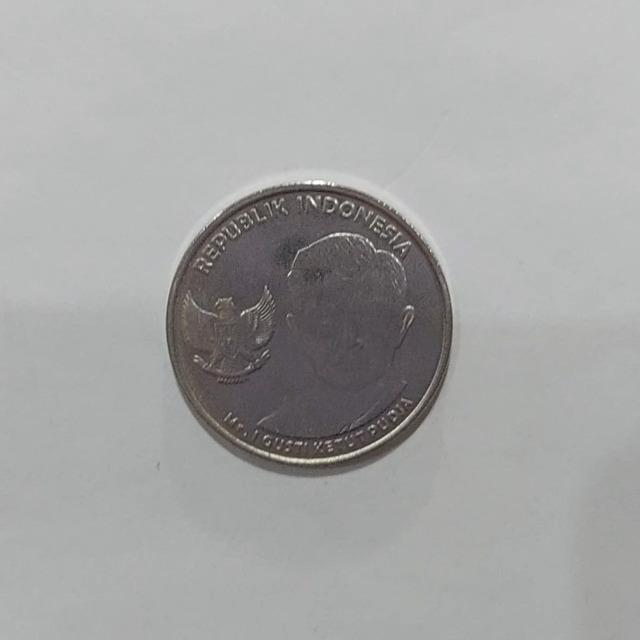Rp100: (163, 173, 455, 473)
